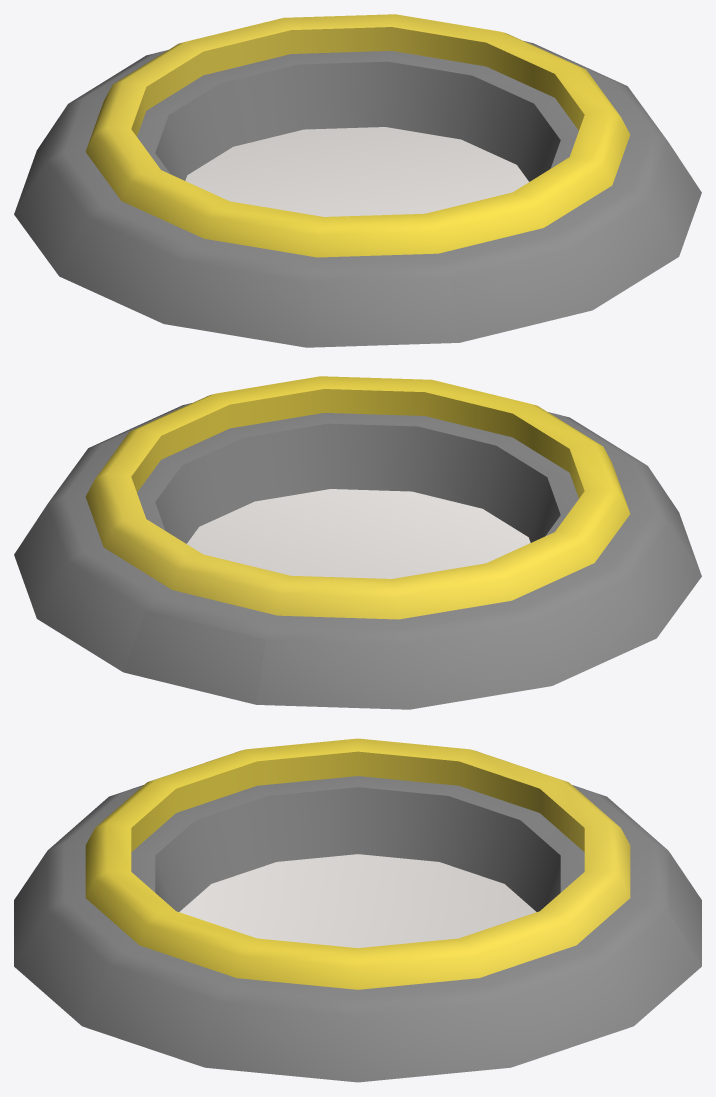
Rendered from teleport_exit.fbx.
3 renders of one model, top to bottom at view 1: azimuth 30°, elevation 25°; view 2: azimuth 150°, elevation 25°; view 3: azimuth 270°, elevation 25°, orthographic. The views are drawn at different scales.
Parts seen in each view (by area): view 1: Base, Circle; view 2: Base, Circle; view 3: Base, Circle.
Boxes of the visible parts, x1,y1,x2,y2 form: Base: (14, 41, 701, 347); Circle: (85, 14, 630, 257); Base: (14, 403, 701, 709); Circle: (85, 376, 630, 619); Base: (14, 776, 701, 1082); Circle: (85, 738, 630, 989).
Bounding box in the file's own units: 1.55 × 0.2085 × 1.51.
